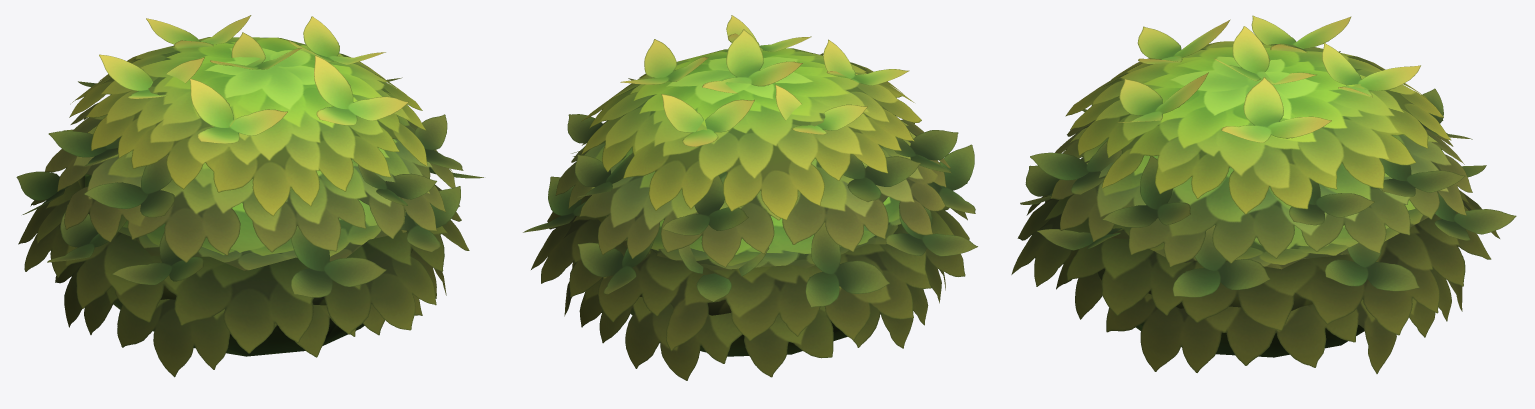
Rendered from Bush.fbx.
3 renders of one model, left to right at view 1: azimuth 30°, elevation 25°; view 2: azimuth 150°, elevation 25°; view 3: azimuth 270°, elevation 25°, orthographic. The views are drawn at different scales.
Parts seen in each view (by area): view 1: stylized bush_stylized bush_0; view 2: stylized bush_stylized bush_0; view 3: stylized bush_stylized bush_0.
Part boxes in pixels (x1,y1,x2,y2): stylized bush_stylized bush_0: (16, 15, 483, 377); stylized bush_stylized bush_0: (523, 15, 977, 380); stylized bush_stylized bush_0: (1011, 15, 1516, 373).
Bounding box in the file's own units: 151 × 96.24 × 158.
1 material, 1 textured.
